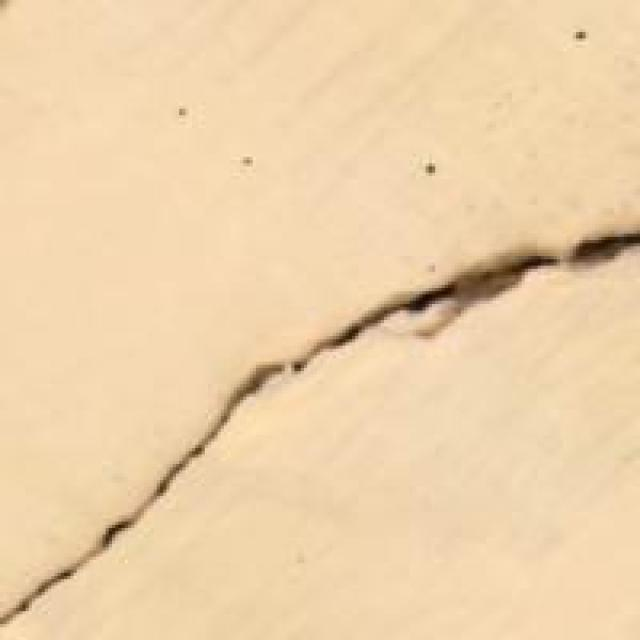Crack: (3, 202, 637, 636)
